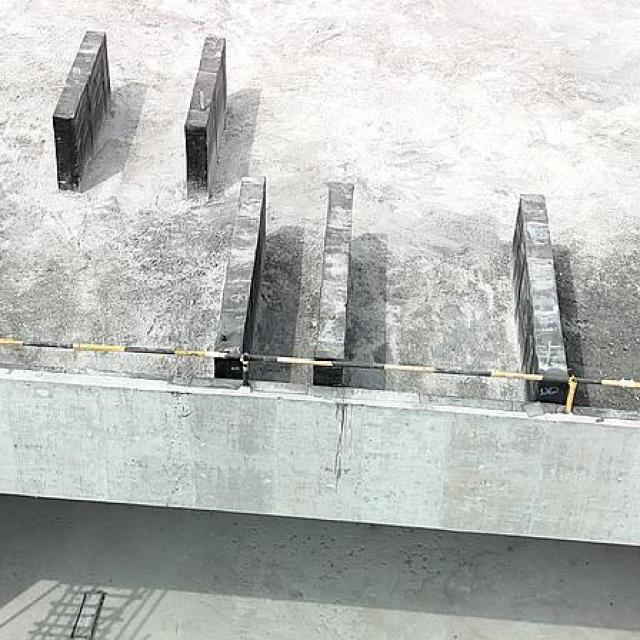edge_guardrail: (1, 335, 640, 414)
